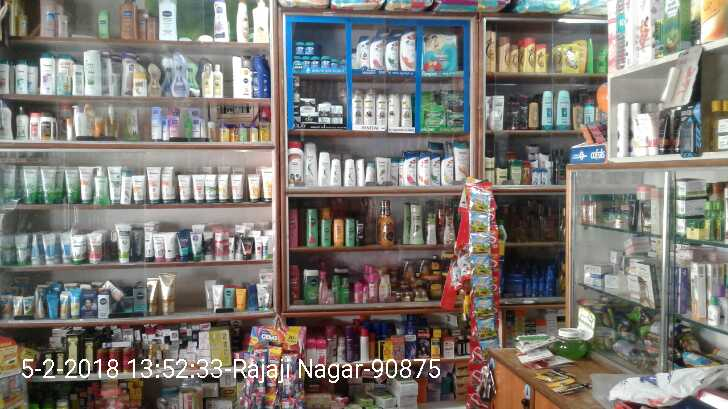beauty: (353, 29, 370, 71), (366, 31, 383, 71), (401, 26, 415, 74), (382, 33, 398, 73), (416, 154, 432, 187), (300, 96, 318, 125), (403, 150, 417, 185), (363, 91, 375, 126), (387, 94, 400, 125), (350, 93, 362, 126), (375, 96, 387, 129), (431, 152, 441, 191), (400, 93, 411, 125), (315, 104, 332, 124), (330, 103, 344, 124)
pharmacy: (421, 32, 460, 71), (422, 104, 446, 127), (291, 39, 316, 55), (446, 92, 462, 107), (320, 57, 337, 67), (449, 113, 463, 125), (309, 55, 320, 69), (301, 55, 309, 68)
